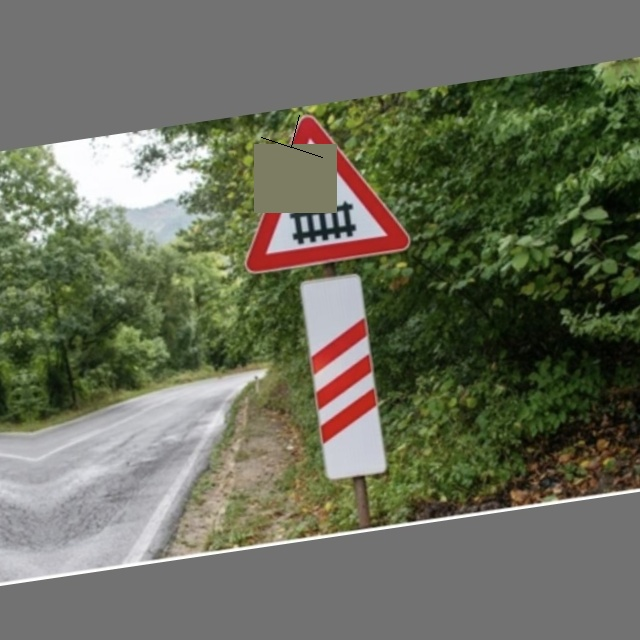Guarded_Level_Crossing: (227, 104, 413, 273)
